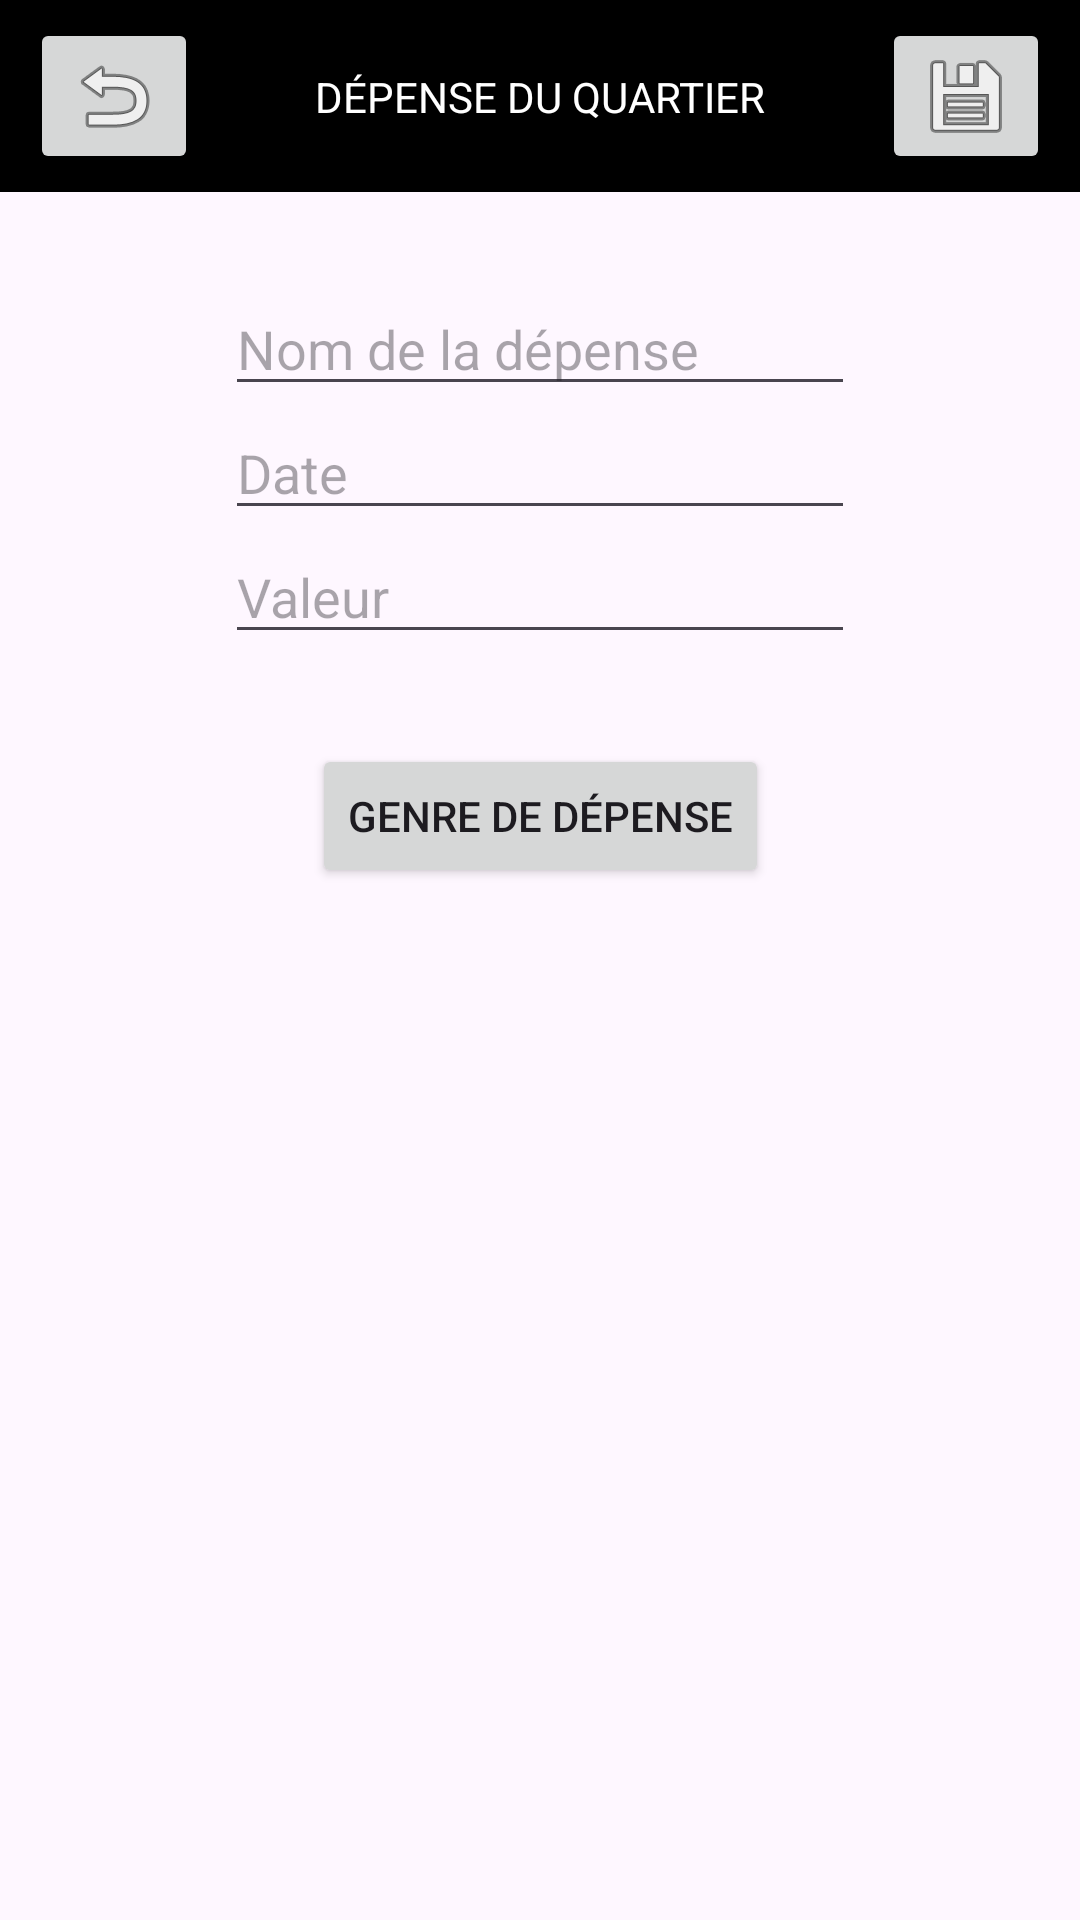

Named icons in this screenshot (1080×1920) and their centers, (x=x, y=y):
revert: (x=114, y=96)
save: (x=966, y=96)
